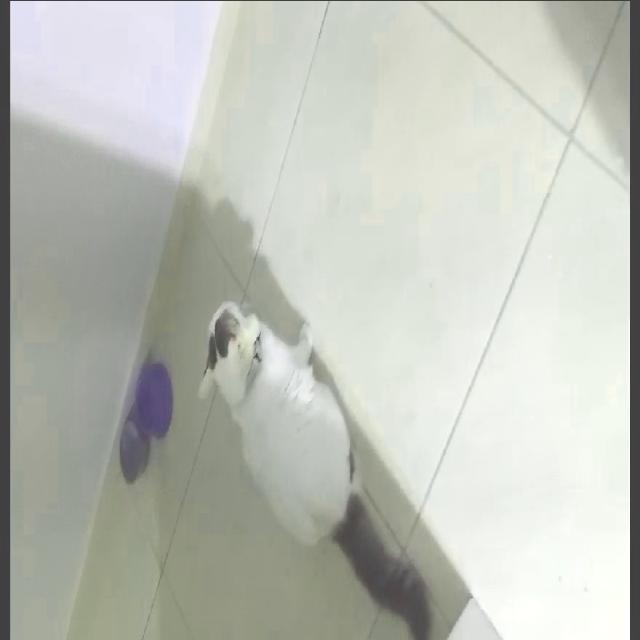Simba: (214, 238, 382, 552)
